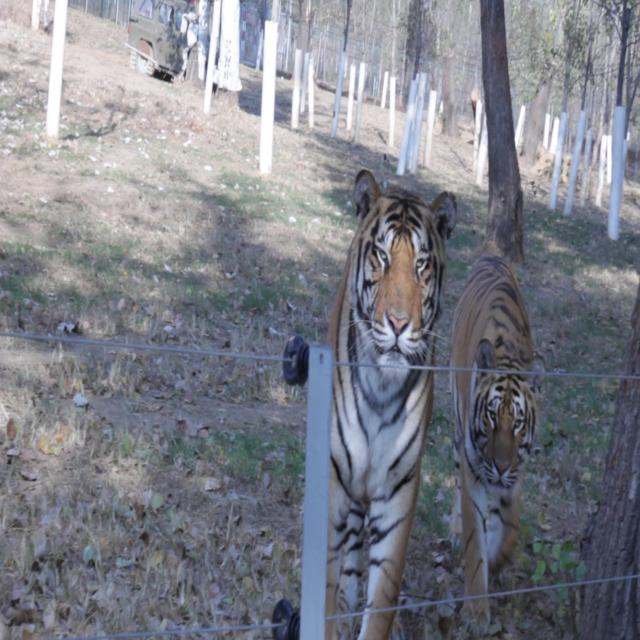Tiger: (317, 158, 458, 632), (449, 250, 543, 632)
